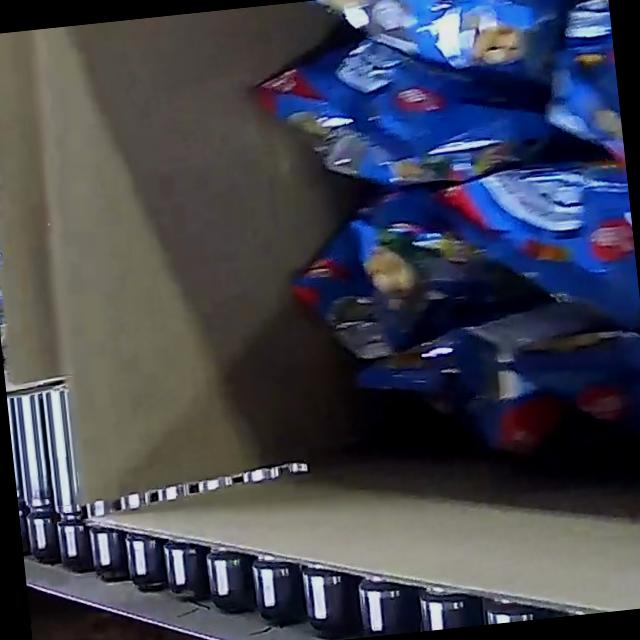paprika: (239, 0, 640, 565)
